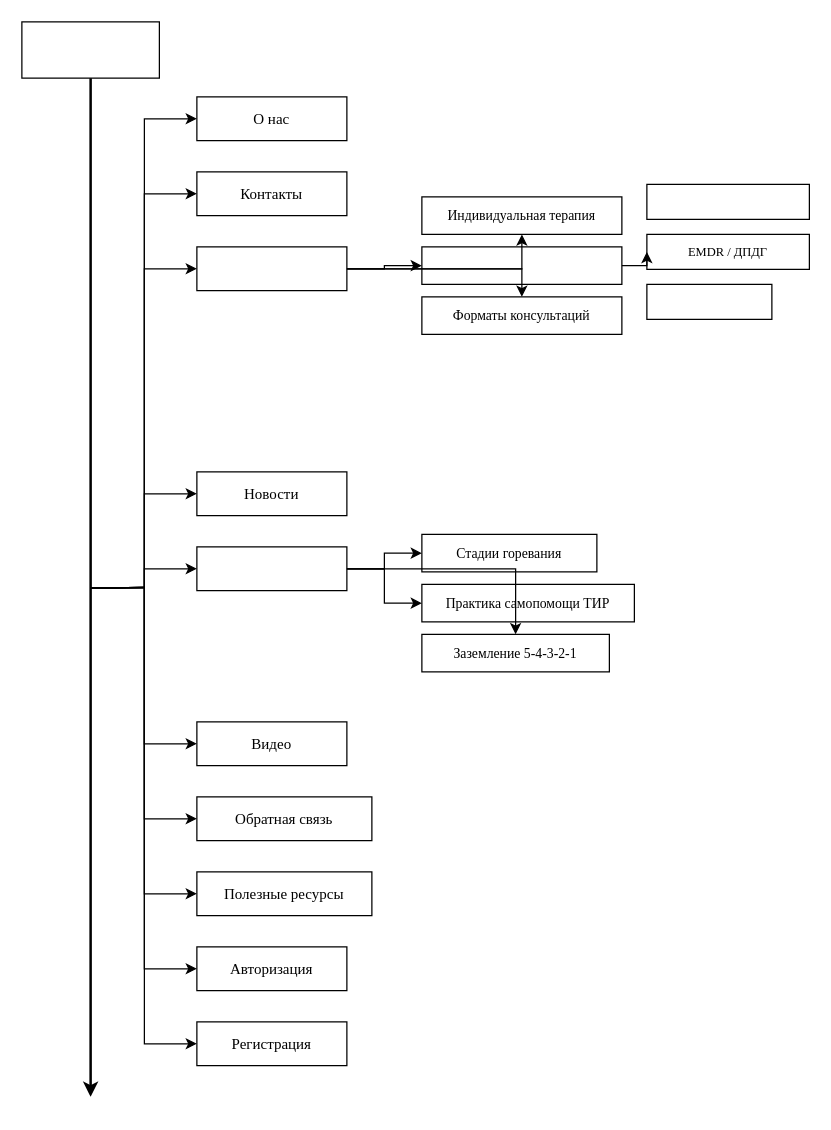
The diagram is 831 pixels wide and 1130 high, and some of its shapes have lost their labels. The centre of each missing label's shape, as x and y in pixels:
ImTT: [709,301]
Блог: [271,568]
Главная: [90,49]
Каталог: [271,268]
КПТ при тревоге: [727,201]
Специальные методы: [521,265]
